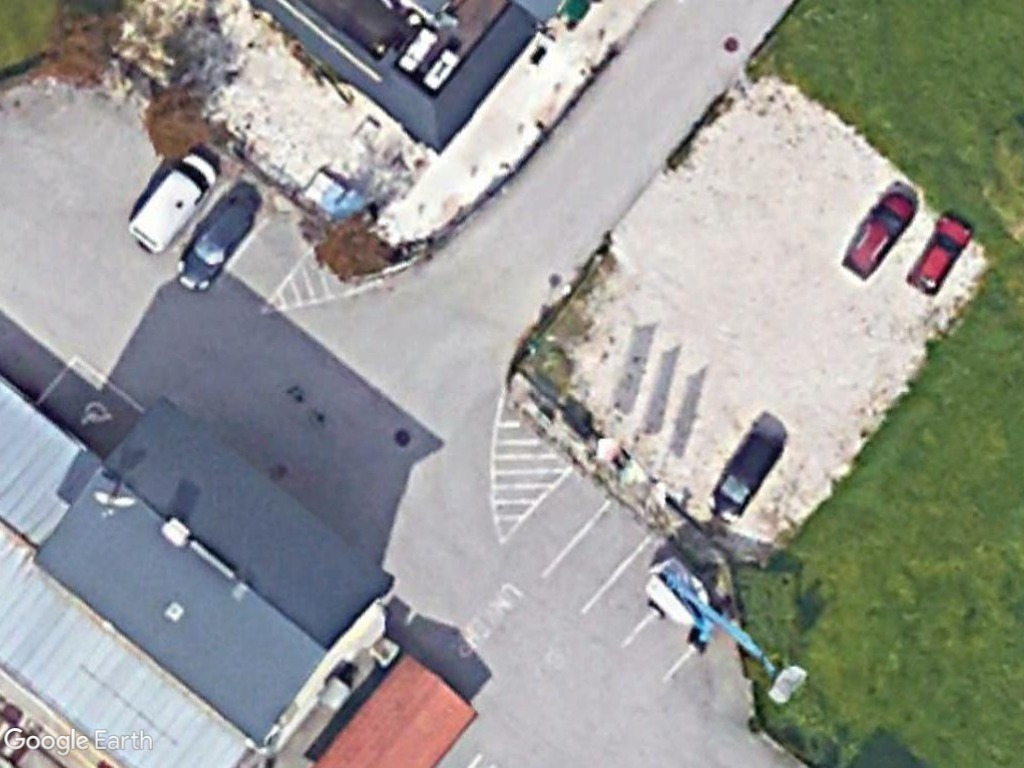car: (169, 186, 261, 296), (838, 181, 924, 286), (705, 424, 785, 524), (904, 208, 978, 302)
van: (121, 148, 220, 261)
